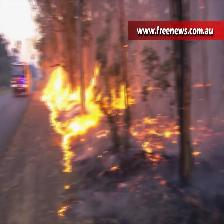fire: (47, 70, 96, 129)
